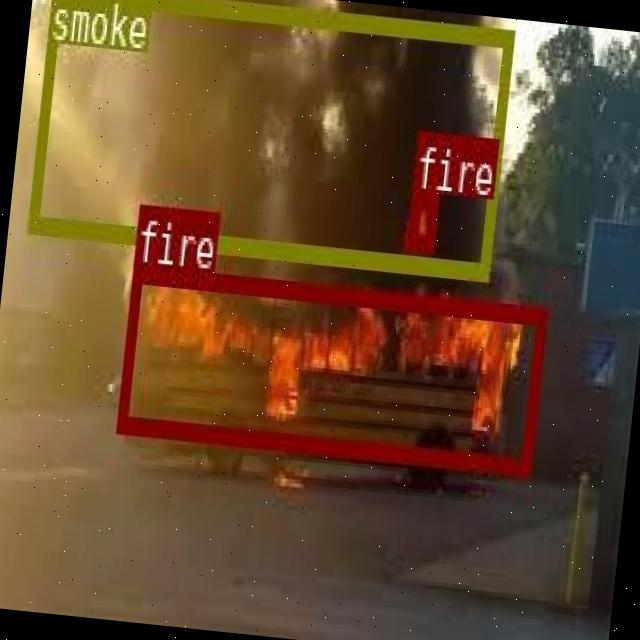fire: (115, 263, 546, 472), (404, 190, 436, 250)
smoke: (26, 0, 513, 275)
